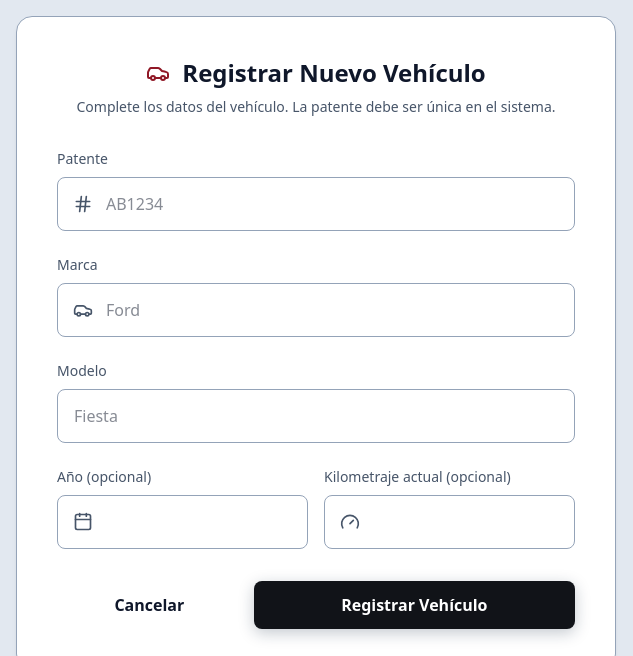
Test case: ClientVehicleFormPage: errores reales del backend al registrar › muestra el mensaje real de la Gateway ante un 500 con su reference
This screenshot has width=633, height=656.
Step 1. Type "ZZZZ11" into the field labelled "Patente" → (316, 204), box x1=57 y1=177 x2=575 y2=231
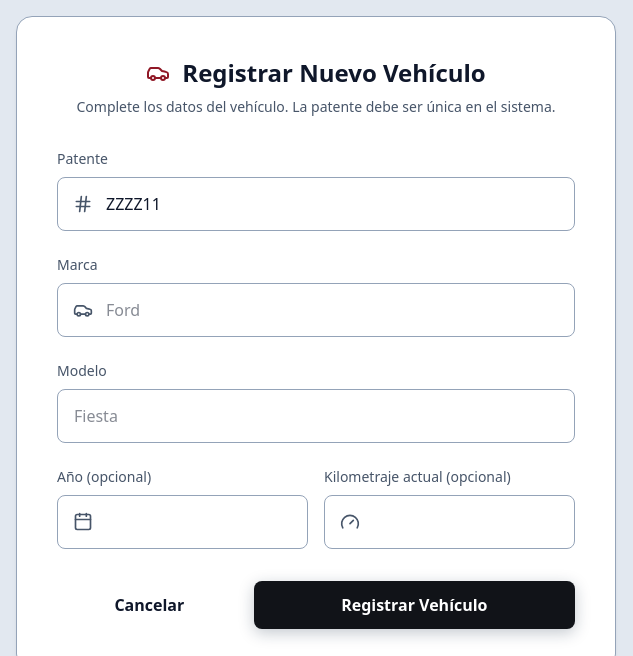
Step 2. Type "Toyota" into the field labelled "Marca" → (316, 310), box x1=57 y1=283 x2=575 y2=337
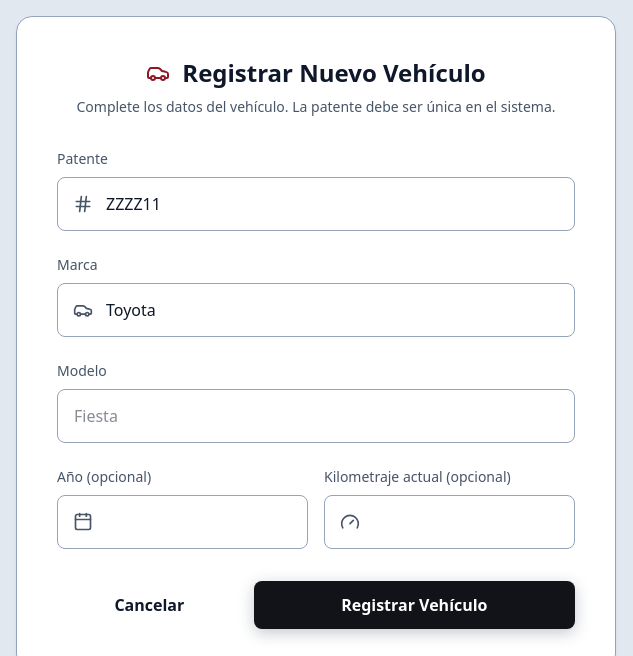
Step 3. Type "Corolla" into the field labelled "Modelo" → (316, 416), box x1=57 y1=389 x2=575 y2=443
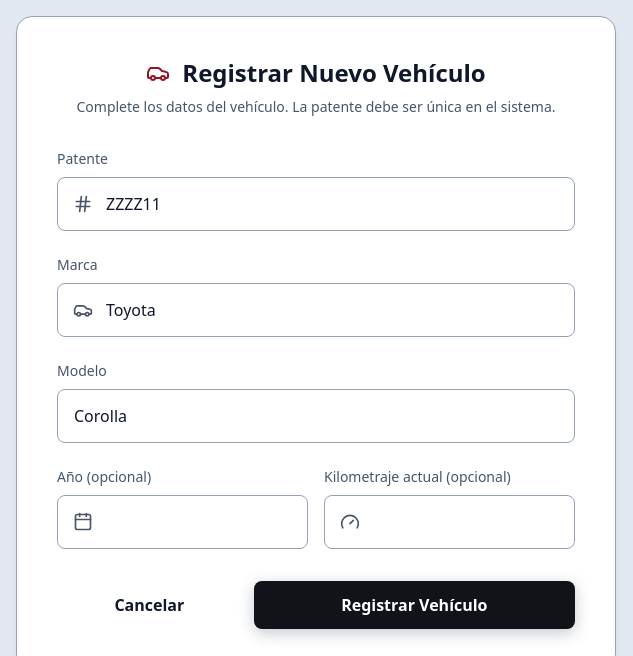
Step 4. Type "2018" into the number field labelled "Año (opcional)" → (182, 522), box x1=57 y1=495 x2=308 y2=549
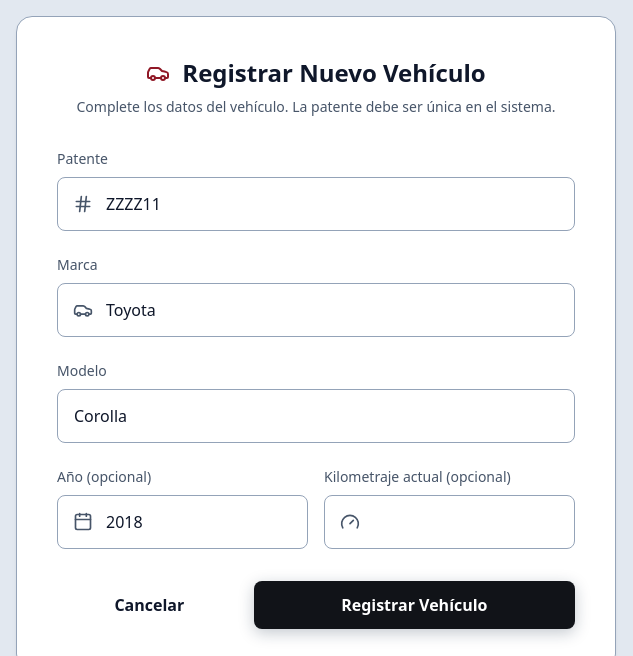
Step 5. Type "45000" into the number field labelled "Kilometraje actual (opcional)" → (450, 522), box x1=324 y1=495 x2=575 y2=549
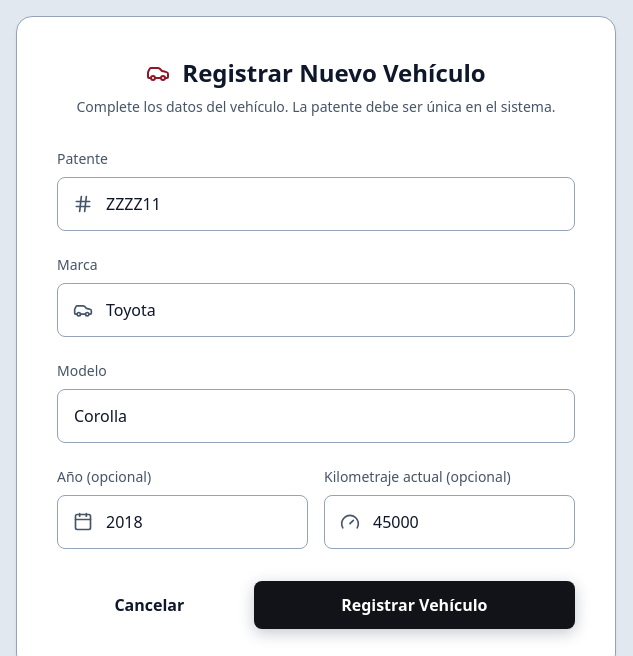
Step 6. Click the button "Registrar Vehículo" → (414, 605), box x1=254 y1=581 x2=575 y2=629
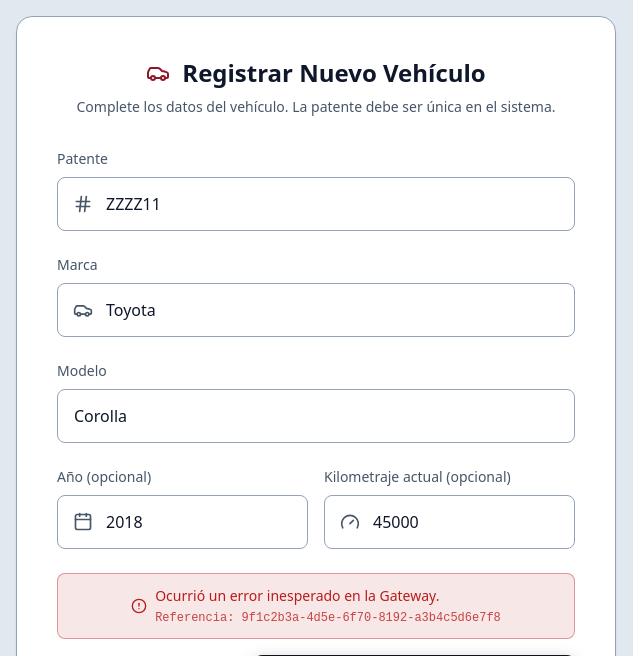
Check: the text "Ocurrió un error inesperado en la Gateway." is shown, box x1=155 y1=586 x2=440 y2=605
Check: the text "Referencia: 9f1c2b3a-4d5e-6f70-8192-a3b4c5d6e7f8" is shown, box x1=155 y1=610 x2=501 y2=626
